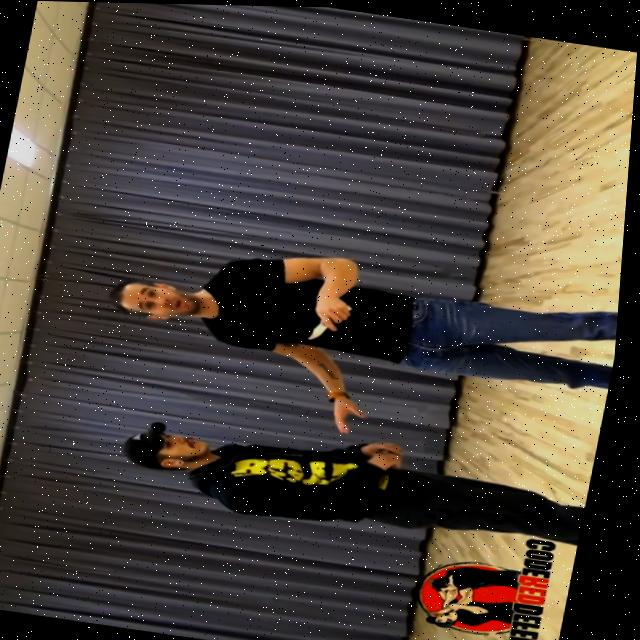knife: (311, 316, 333, 340)
